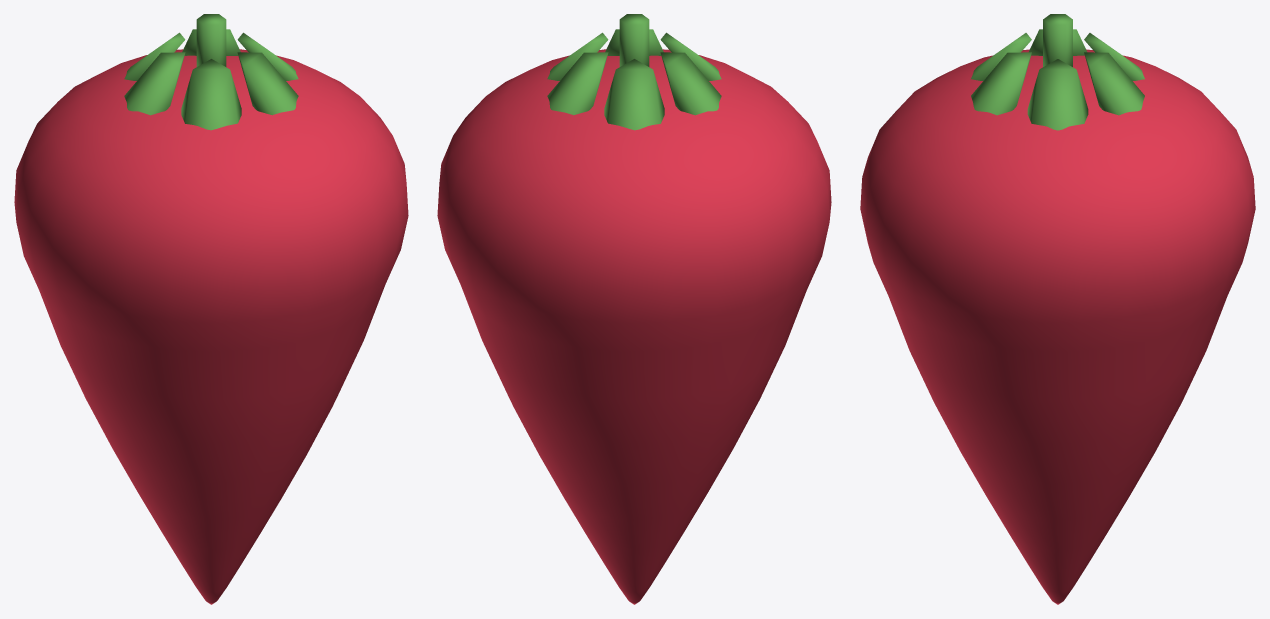
Rendered from strawberry.glb.
3 renders of one model, left to right at view 1: azimuth 30°, elevation 25°; view 2: azimuth 150°, elevation 25°; view 3: azimuth 270°, elevation 25°, orthographic.
Parts seen in each view (by area): view 1: strawberry; view 2: strawberry; view 3: strawberry.
Boxes of the visible parts, box(x1,y1,x2,y2) form: strawberry: box(14, 14, 408, 604); strawberry: box(437, 14, 831, 604); strawberry: box(860, 14, 1255, 604).
Size of the model in its own units: 0.6075 by 1 by 0.6119.
